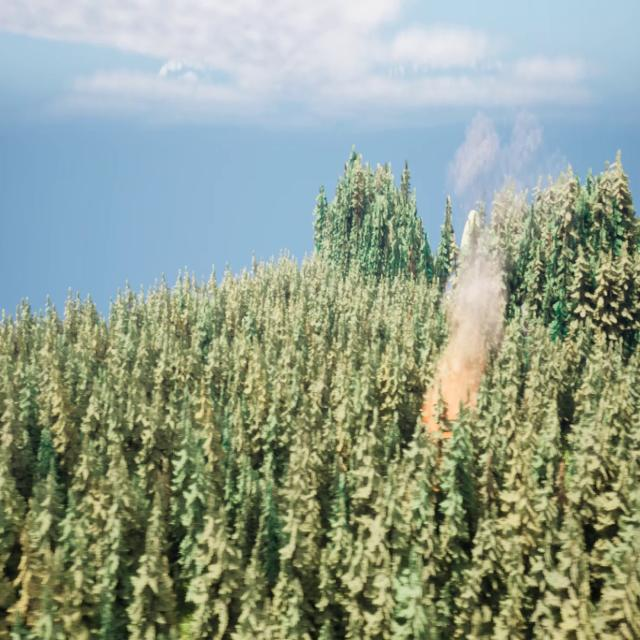smoke: (419, 112, 565, 444)
